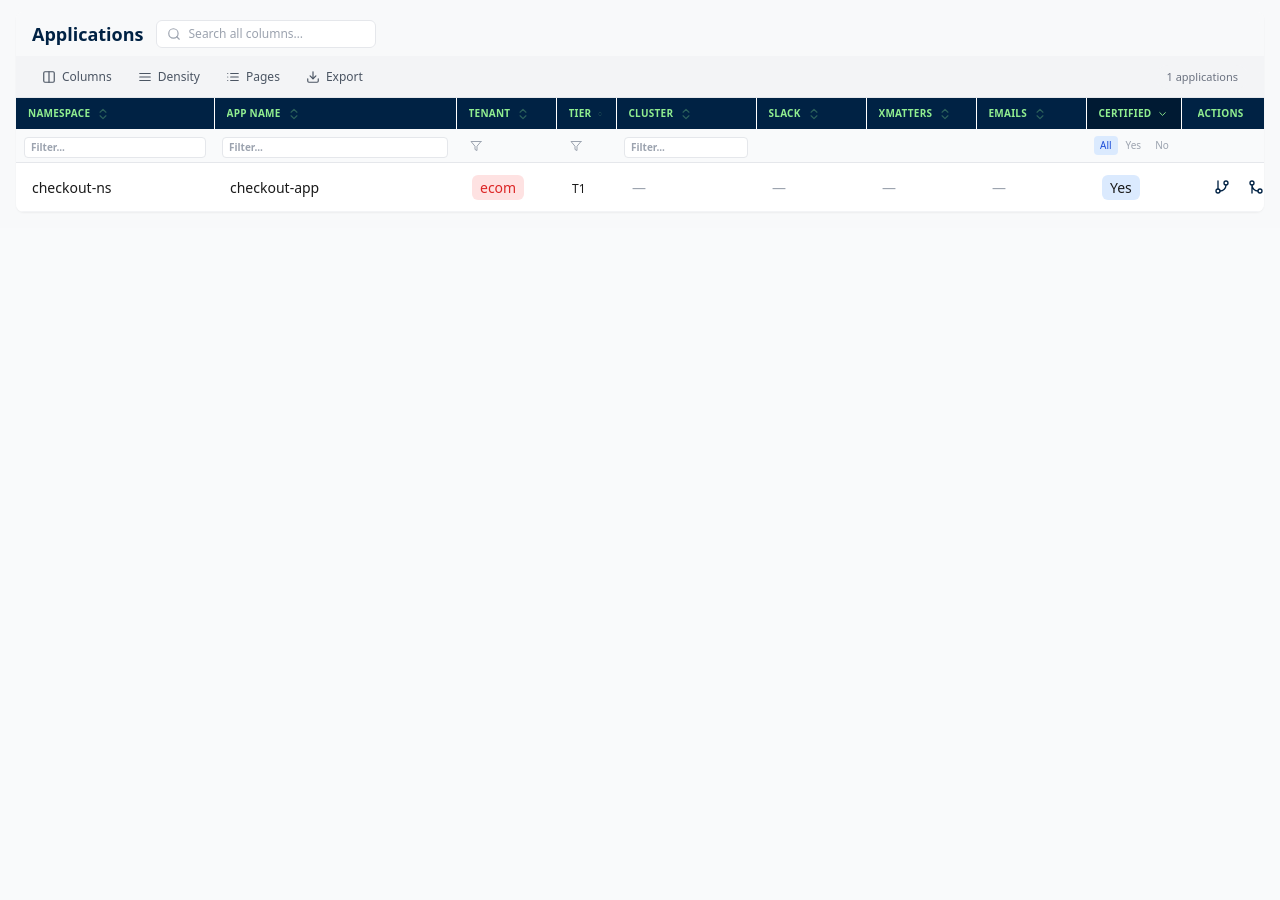
Scenario: ApplicationsView sub-components › Toast › shows toast after successful dependency delete request
The image size is (1280, 900).
Click the button titled "View downstream dependencies". click: (1222, 187)
box: [1208, 173, 1236, 201]
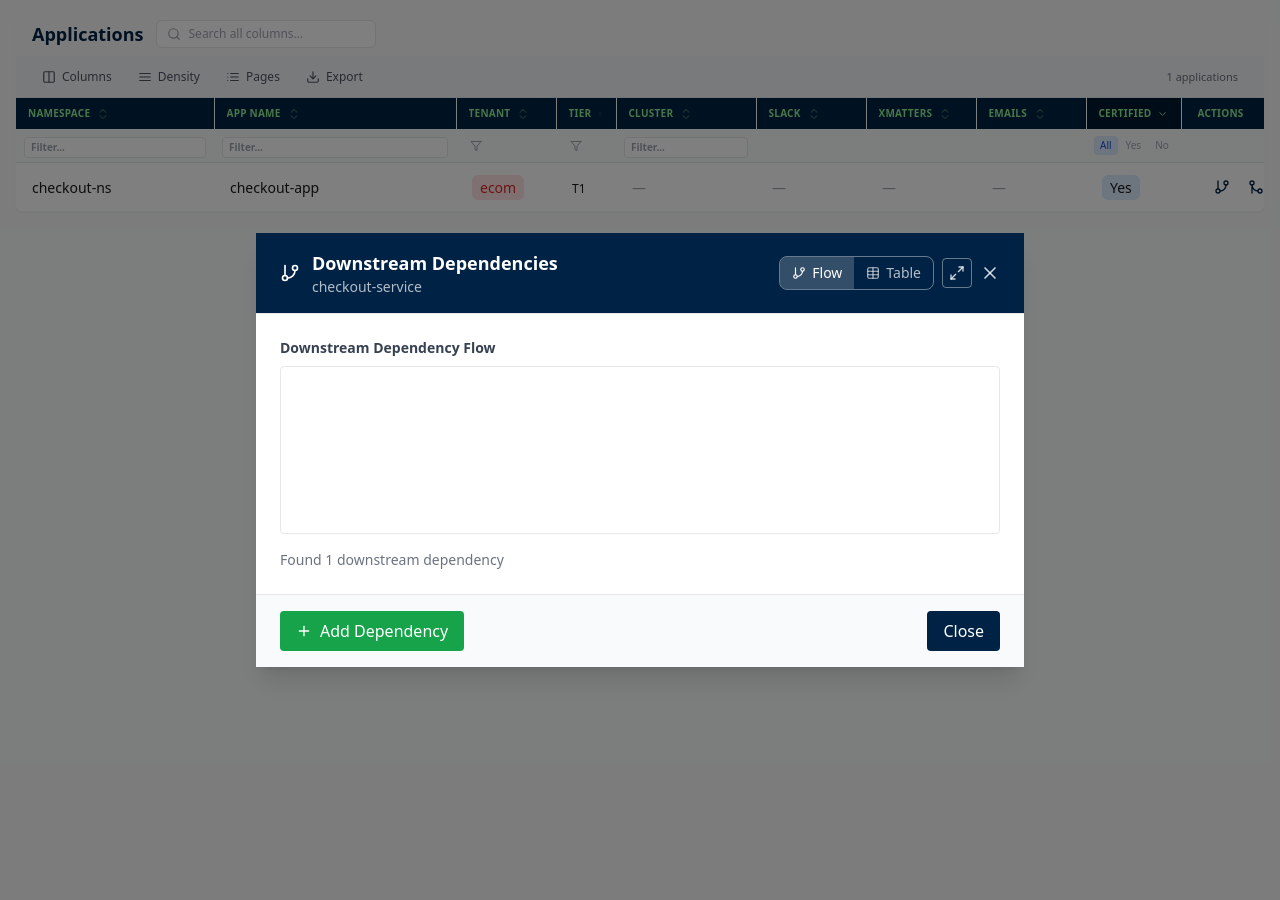
expect the button titled "Table view" is shown: met
Click the button titled "Table view". click: (894, 273)
box: [854, 257, 933, 289]
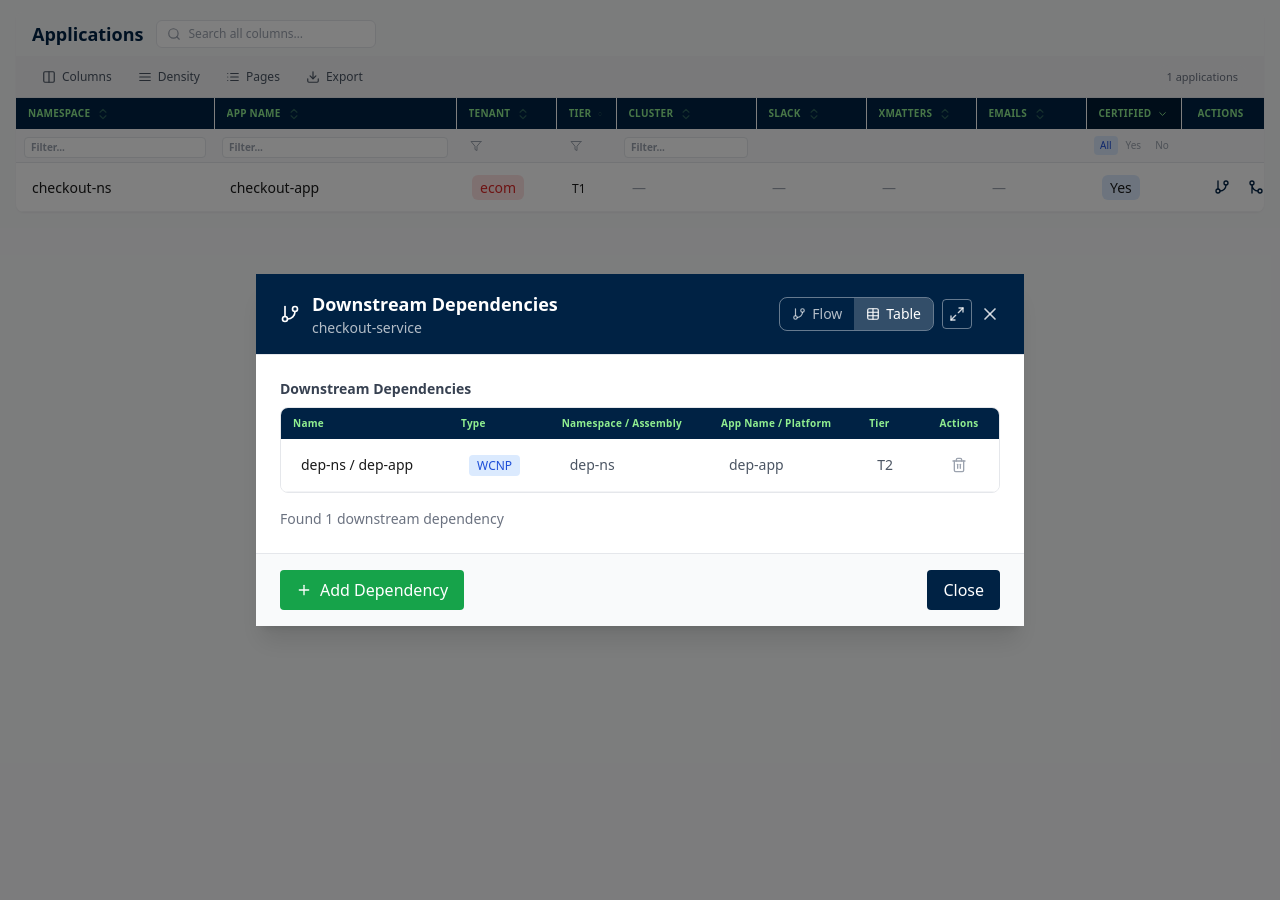
expect the button titled "Delete dependency" is shown: met
Click the button titled "Delete dependency". click: (959, 465)
box: [945, 451, 973, 479]
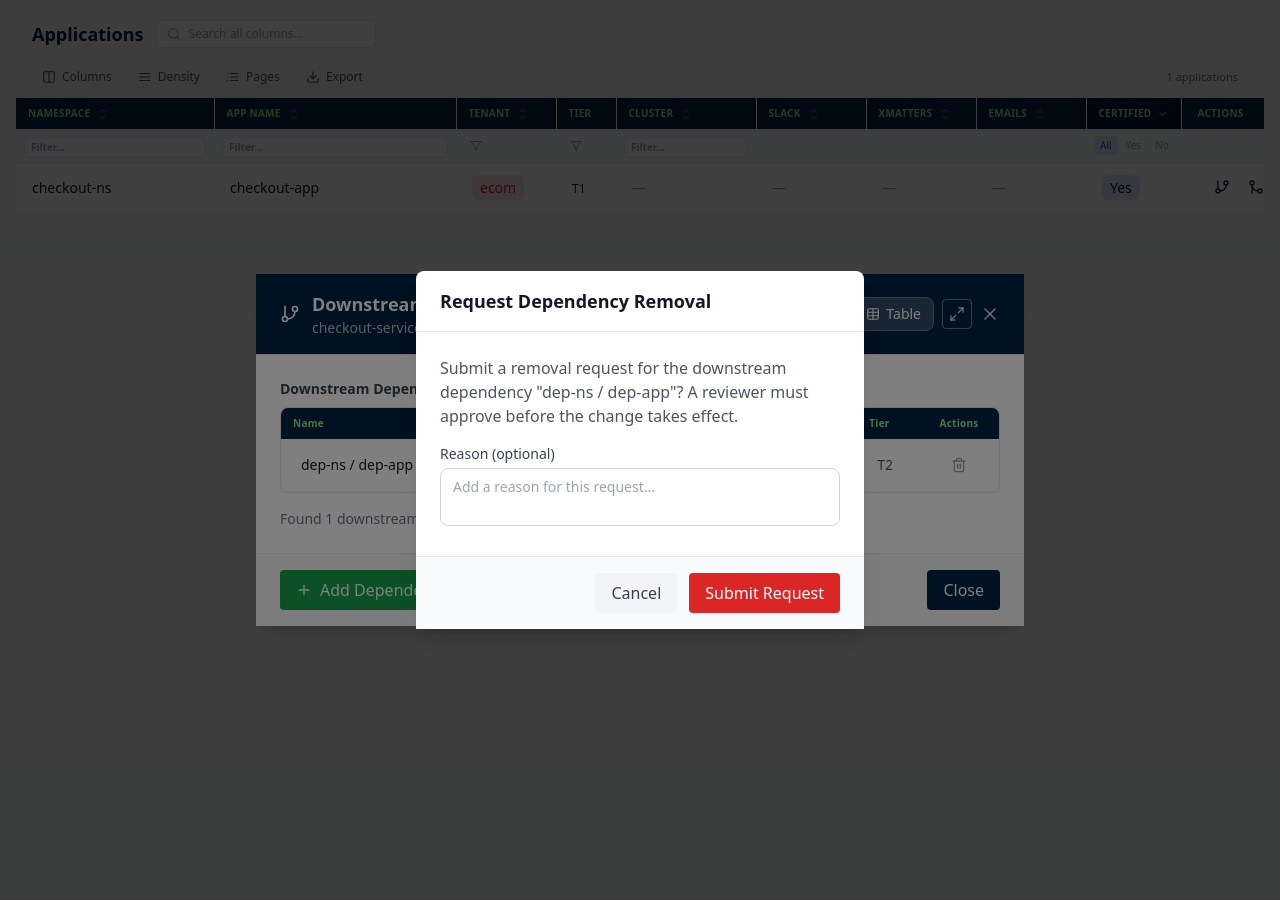
expect the button "Submit Request" is shown: met
Click the button "Submit Request". click: (765, 593)
box: [689, 573, 840, 613]
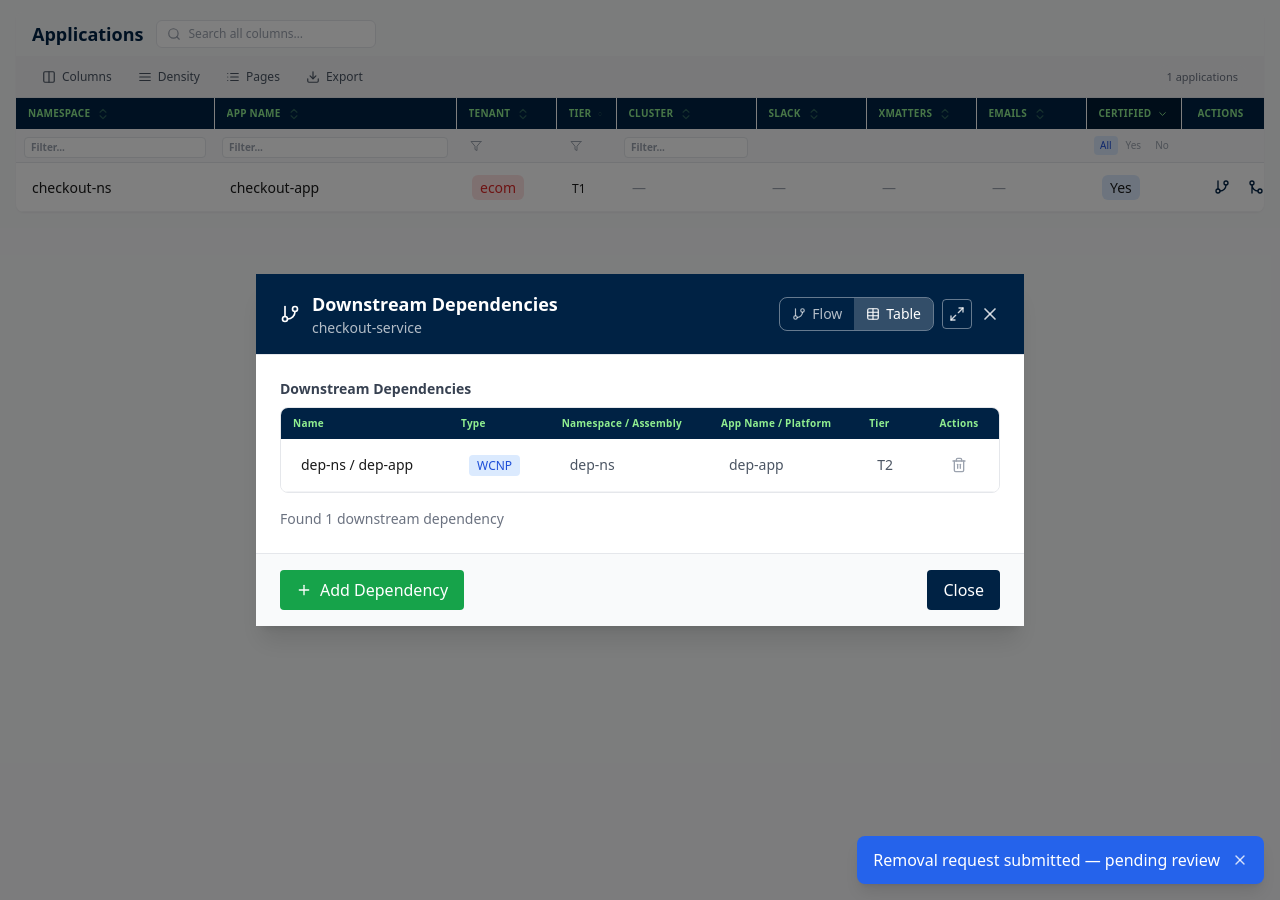
expect the text "Removal request submitted — pending review" is shown: met, box [873, 848, 1220, 872]
